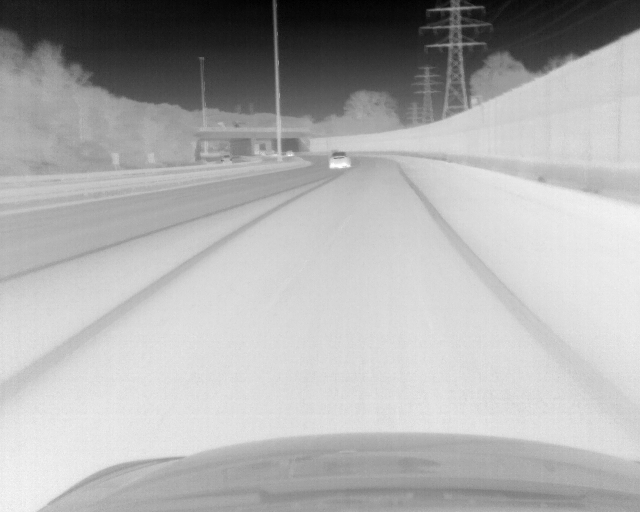car: (328, 149, 353, 169)
